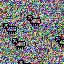sheep: (11, 37, 27, 50), (2, 22, 18, 34), (26, 14, 41, 26), (55, 35, 64, 47)
